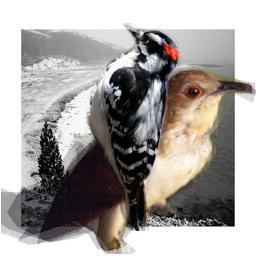Cuckoo: (1, 68, 256, 254)
Woodpecker: (85, 23, 183, 231)
